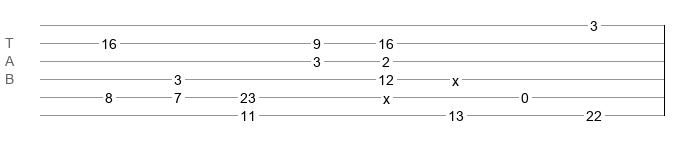0: (521, 90, 529, 100)
11: (240, 108, 256, 118)
12: (378, 72, 394, 82)
13: (448, 108, 464, 118)
16: (101, 36, 117, 46), (378, 36, 394, 46)
2: (382, 54, 390, 64)
22: (586, 108, 602, 118)
23: (240, 90, 256, 100)
3: (174, 72, 182, 82), (313, 54, 321, 64), (590, 18, 598, 28)
7: (174, 90, 182, 100)
8: (105, 90, 113, 100)
9: (313, 36, 321, 46)
x: (383, 91, 390, 99), (452, 73, 459, 81)
